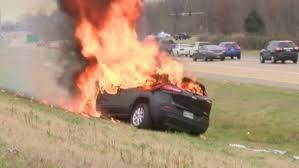fire: (75, 1, 204, 110)
